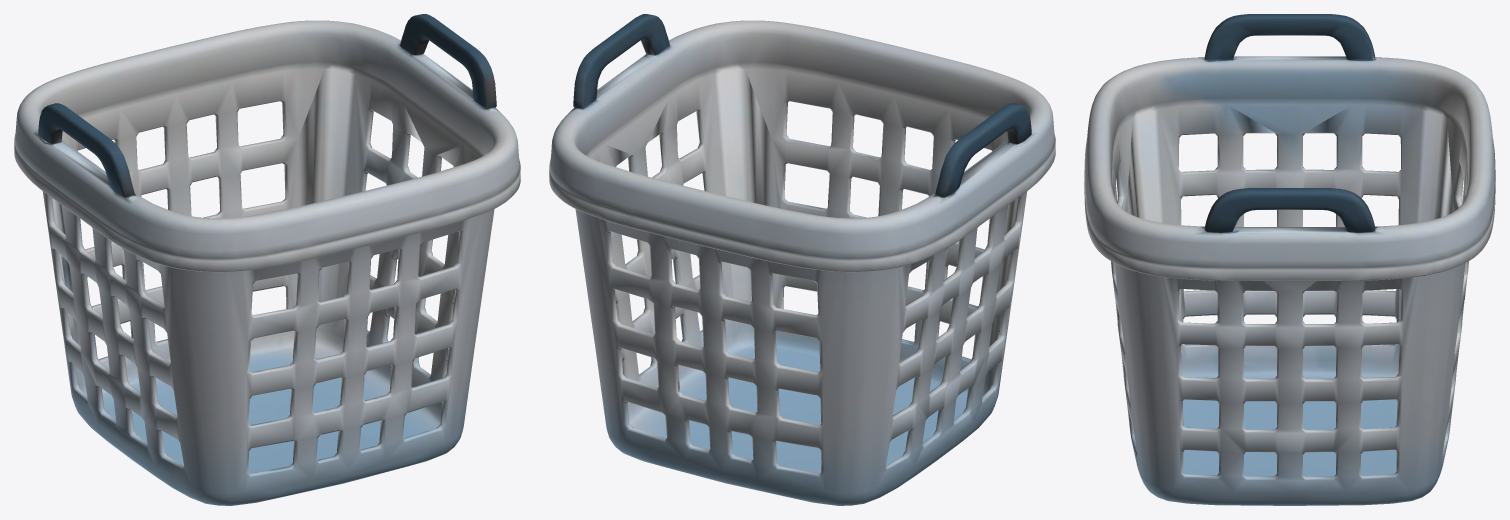
The model's file is Inside__a_laundry_basket_315652c4_v4.cluster.glb.
3 views of the same model, side by side, from view 1: azimuth 30°, elevation 25°; view 2: azimuth 150°, elevation 25°; view 3: azimuth 270°, elevation 25° (orthographic). The views are drawn at different scales.
Visible parts, largest first — view 1: material; view 2: material; view 3: material.
Part boxes in pixels (bbox=[...]): material: bbox=[14, 14, 520, 505]; material: bbox=[549, 14, 1055, 505]; material: bbox=[1084, 14, 1495, 505].
Bounding box in the file's own units: 1.9 × 1.67 × 1.8.
1 material, 1 textured.
